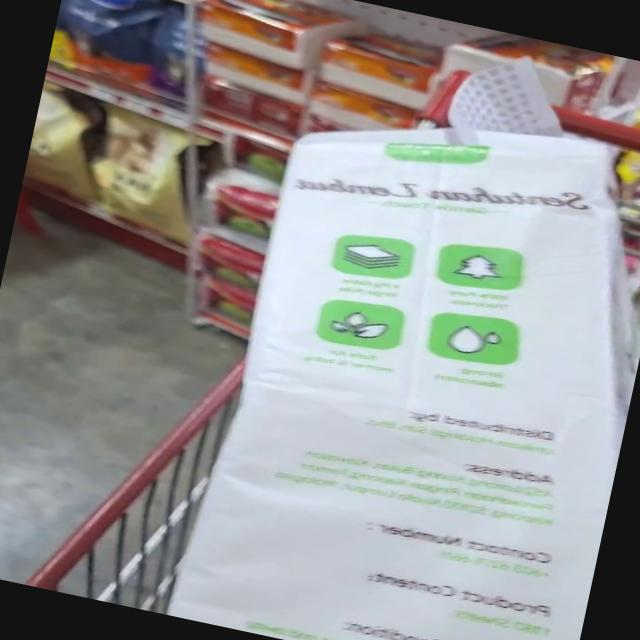Tisu: (209, 23, 640, 445), (154, 295, 634, 640)
